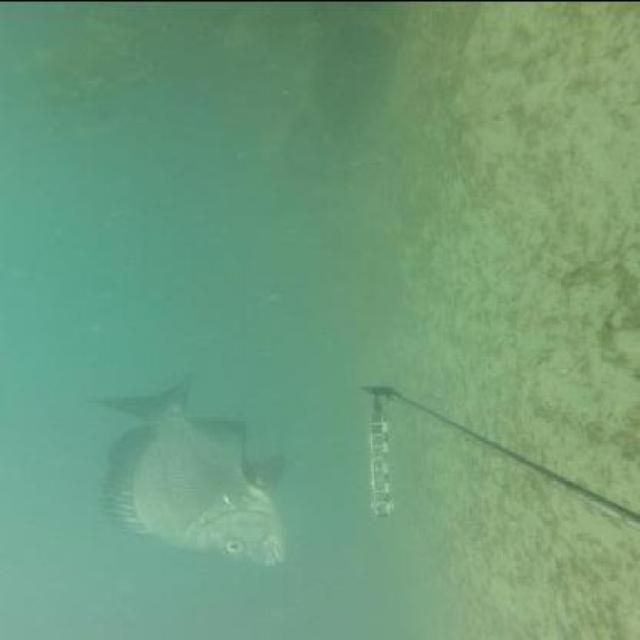acanthopagrus_palmaris: (83, 371, 295, 569)
